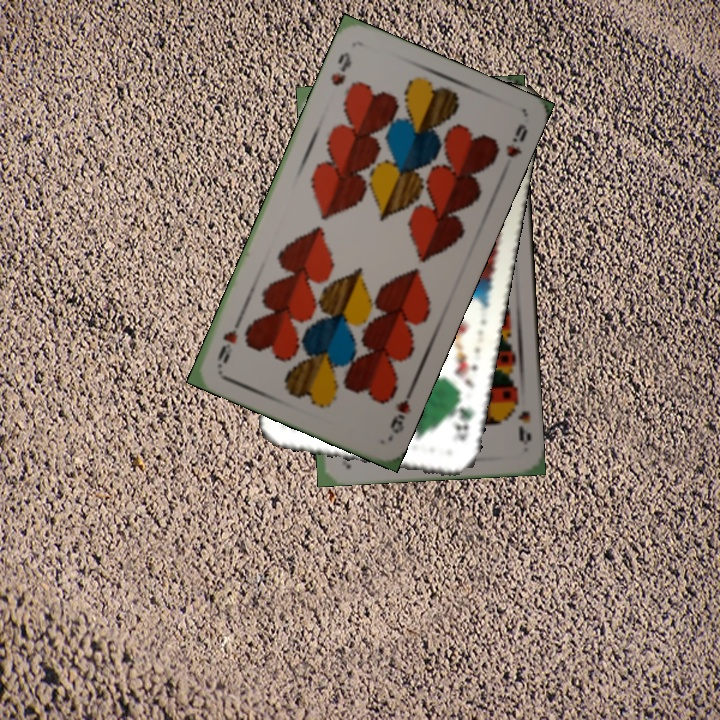GK: (449, 394, 477, 443)
H9: (384, 385, 416, 441), (326, 47, 355, 88)
S9: (506, 390, 534, 444)
